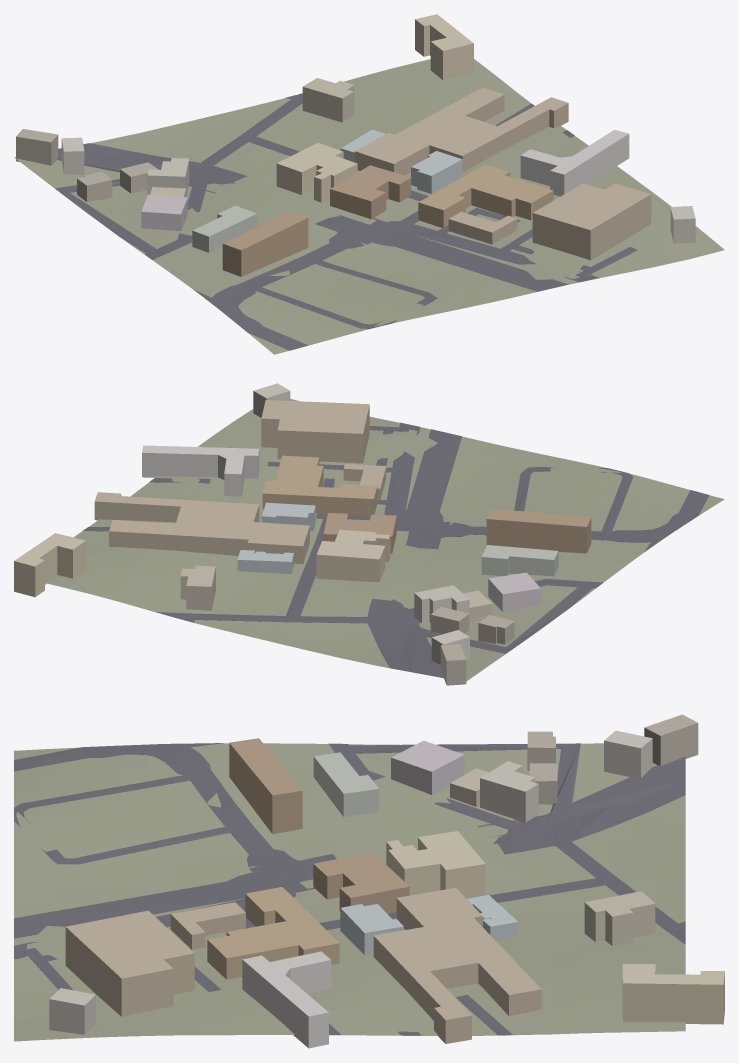
The model's file is chunk_7_1.glb.
3 renders of one model, top to bottom at view 1: azimuth 30°, elevation 25°; view 2: azimuth 150°, elevation 25°; view 3: azimuth 270°, elevation 25°, orthographic. The views are drawn at different scales.
Visible parts, largest first — view 1: geometry_21, geometry_13, geometry_20, geometry_12, geometry_11, geometry_5, geometry_3, geometry_2, geometry_19, geometry_46, geometry_16, geometry_10 (+21 smaller); view 2: geometry_21, geometry_13, geometry_20, geometry_12, geometry_11, geometry_5, geometry_3, geometry_19, geometry_46, geometry_10, geometry_38, geometry_4 (+23 smaller); view 3: geometry_21, geometry_13, geometry_20, geometry_12, geometry_11, geometry_19, geometry_3, geometry_5, geometry_46, geometry_2, geometry_38, geometry_16 (+28 smaller).
Boxes of the visible parts, x1,y1,x2,y2 form: geometry_21: (14,59,724,354); geometry_13: (354,87,568,175); geometry_20: (532,183,651,260); geometry_12: (418,164,553,227); geometry_11: (520,129,629,196); geometry_5: (222,211,308,276); geometry_3: (276,143,357,202); geometry_2: (330,165,411,219); geometry_19: (415,14,473,80); geometry_46: (394,235,568,291); geometry_16: (302,78,354,122); geometry_10: (192,205,257,252); geometry_21: (45,399,724,682); geometry_13: (94,492,309,564); geometry_20: (261,400,369,463); geometry_12: (262,455,377,516); geometry_11: (142,445,259,496); geometry_5: (486,508,591,553); geometry_3: (316,529,390,582); geometry_19: (14,533,86,597); geometry_46: (406,429,461,512); geometry_10: (481,545,558,576); geometry_38: (388,537,444,678); geometry_4: (488,572,540,611); geometry_21: (14,743,685,1041); geometry_13: (373,887,541,1043); geometry_20: (65,910,194,1016); geometry_12: (207,887,339,979); geometry_11: (242,951,331,1048); geometry_19: (622,963,724,1024); geometry_3: (386,831,485,898); geometry_5: (229,738,302,834); geometry_46: (14,881,244,938); geometry_2: (313,852,409,913); geometry_38: (300,756,685,873); geometry_16: (584,891,655,946).
Size of the model in its own units: 260 by 20.28 by 265.
